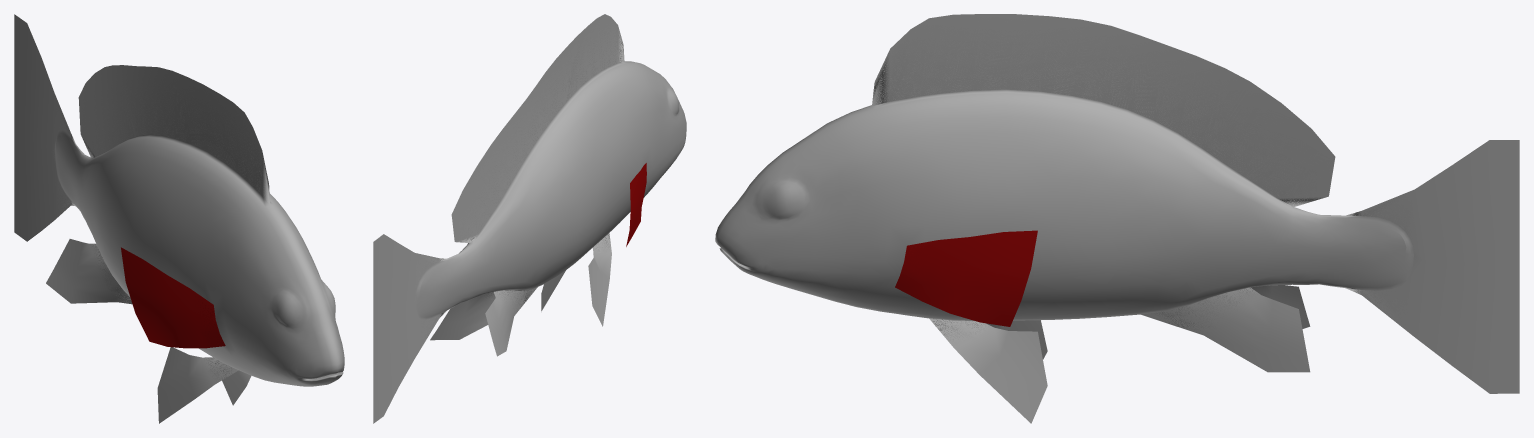
Rendered from Haemulidae_A.fbx.
The picture shows the model from 3 angles, left to right: view 1: azimuth 30°, elevation 25°; view 2: azimuth 150°, elevation 25°; view 3: azimuth 270°, elevation 25°; orthographic projection. The views are drawn at different scales.
Visible parts, largest first — view 1: Haemulidae_A_LOD0; view 2: Haemulidae_A_LOD0; view 3: Haemulidae_A_LOD0.
Part boxes in pixels (left/top/right/bottom): Haemulidae_A_LOD0: left=14, top=14, right=344, bottom=423; Haemulidae_A_LOD0: left=373, top=14, right=686, bottom=423; Haemulidae_A_LOD0: left=715, top=14, right=1519, bottom=423.
Size of what is drawn, in the model's own units: 0.2417 by 0.5389 by 1.01.
